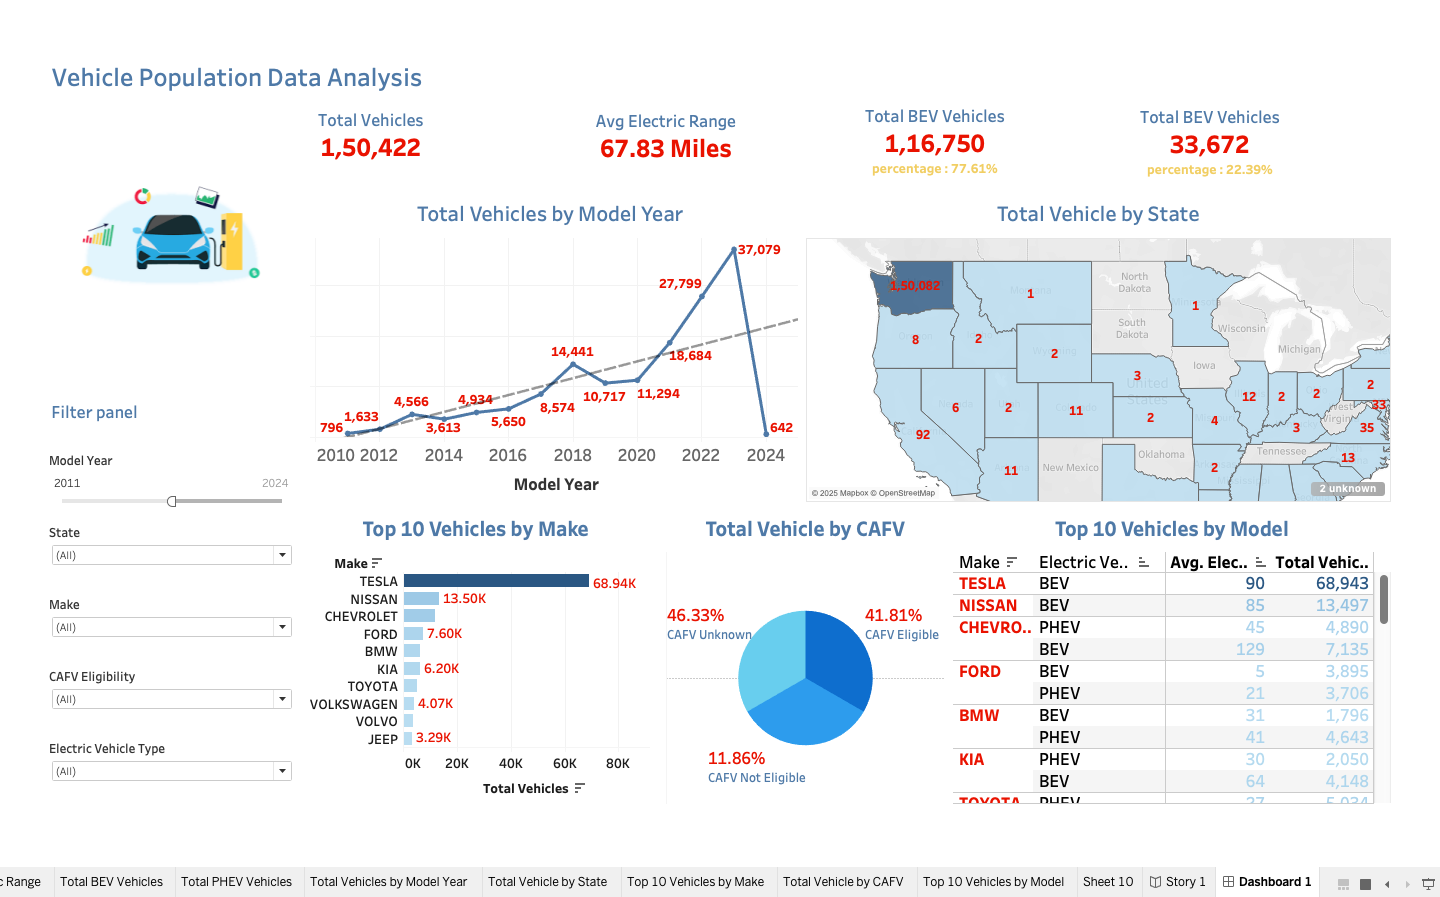

The page's visual inventory and layout, read from the dashboard file:
{"tool":"tableau","page":{"name":"Dashboard 1","canvas":[1366,768],"ordinal":0},"visuals":[{"type":"title","box":[8,8,1350,40]},{"type":"image","param":"/Users/vyshnavkrishna/Desktop/Unknown.png","box":[8,48,254,279]},{"type":"worksheet","title":"Total Vehicles","mark":"Automatic","box":[262,48,274,91]},{"type":"worksheet","title":"Average Electric Range","mark":"Automatic","box":[536,48,274,91]},{"type":"worksheet","title":"Total BEV Vehicles","mark":"Automatic","box":[810,48,274,91]},{"type":"worksheet","title":"Total PHEV Vehicles","mark":"Automatic","box":[1084,48,274,91]},{"type":"worksheet","title":"Total Vehicles by Model Year","mark":"Line","rows":["Calculation_704320780131954688"],"cols":["Model Year"],"box":[262,143,503,315]},{"type":"worksheet","title":"Total Vehicle by State","mark":"Automatic","box":[765,143,593,315]},{"type":"text","box":[8,327,254,73]},{"type":"filter","title":"Total Vehicle by State","param":"[federated.0v5xx3x081rfwh102hlj70fi0evv].[none:Model Year:qk]","box":[8,400,254,72]},{"type":"worksheet","title":"Top 10 Vehicles by Make","mark":"Automatic","rows":["Make"],"cols":["Calculation_704320780131954688"],"box":[262,458,363,302]},{"type":"worksheet","title":"Total Vehicle by CAFV","mark":"Pie","rows":["Calculation_704320780153950218"],"box":[625,458,287,302]},{"type":"worksheet","title":"Top 10 Vehicles by Model","mark":"Automatic","rows":["Make","Electric Vehicle Type"],"box":[912,458,446,302]},{"type":"filter","title":"Total Vehicle by State","param":"[federated.0v5xx3x081rfwh102hlj70fi0evv].[none:State:nk]","box":[8,472,254,72]},{"type":"filter","title":"Total Vehicles by Model Year","param":"[federated.0v5xx3x081rfwh102hlj70fi0evv].[none:Make:nk]","box":[8,544,254,72]},{"type":"filter","title":"Total Vehicles by Model Year","param":"[federated.0v5xx3x081rfwh102hlj70fi0evv].[none:Clean Alternative Fuel Vehicle (C","box":[8,616,254,72]},{"type":"filter","title":"Total Vehicle by State","param":"[federated.0v5xx3x081rfwh102hlj70fi0evv].[none:Electric Vehicle Type:nk]","box":[8,688,254,72]}]}

Visuals, with their boxes on the page's 1366x768 design canvas (x1, y1, x2, y2). These are canvas units, not pixel positions in the 1440x897 screenshot, which may show the page scaled, cropped or inside an application window:
title: [8, 8, 1358, 48]
image: [8, 48, 262, 327]
"Total Vehicles" worksheet: [262, 48, 536, 139]
"Average Electric Range" worksheet: [536, 48, 810, 139]
"Total BEV Vehicles" worksheet: [810, 48, 1084, 139]
"Total PHEV Vehicles" worksheet: [1084, 48, 1358, 139]
"Total Vehicles by Model Year" worksheet (Line marks): [262, 143, 765, 458]
"Total Vehicle by State" worksheet: [765, 143, 1358, 458]
text: [8, 327, 262, 400]
"Total Vehicle by State" filter: [8, 400, 262, 472]
"Top 10 Vehicles by Make" worksheet: [262, 458, 625, 760]
"Total Vehicle by CAFV" worksheet (Pie marks): [625, 458, 912, 760]
"Top 10 Vehicles by Model" worksheet: [912, 458, 1358, 760]
"Total Vehicle by State" filter: [8, 472, 262, 544]
"Total Vehicles by Model Year" filter: [8, 544, 262, 616]
"Total Vehicles by Model Year" filter: [8, 616, 262, 688]
"Total Vehicle by State" filter: [8, 688, 262, 760]
